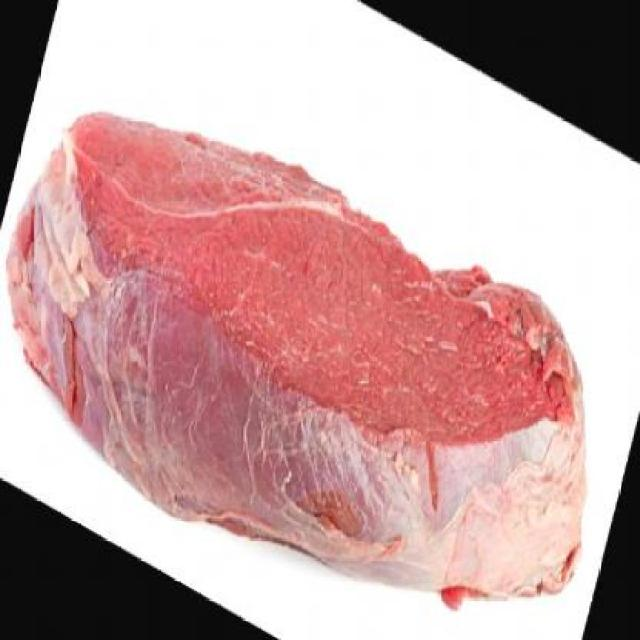beef: (0, 118, 618, 638)
